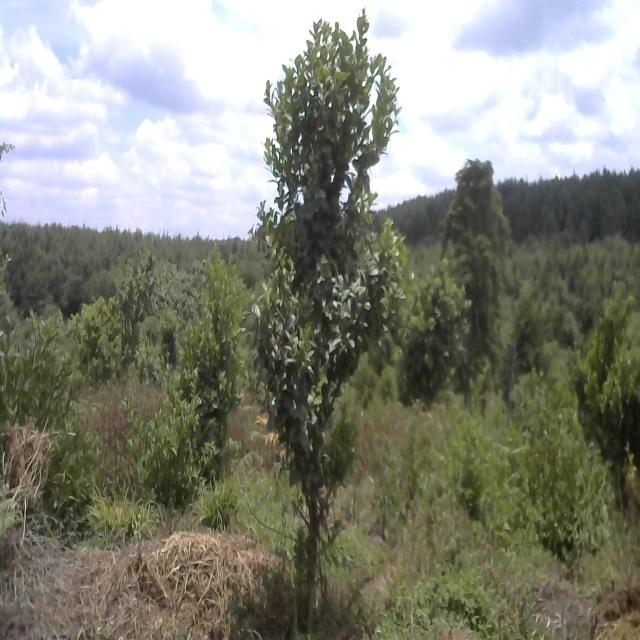Lemon Myrtle: (136, 242, 242, 500)
other: (248, 11, 424, 638), (445, 145, 515, 376)
